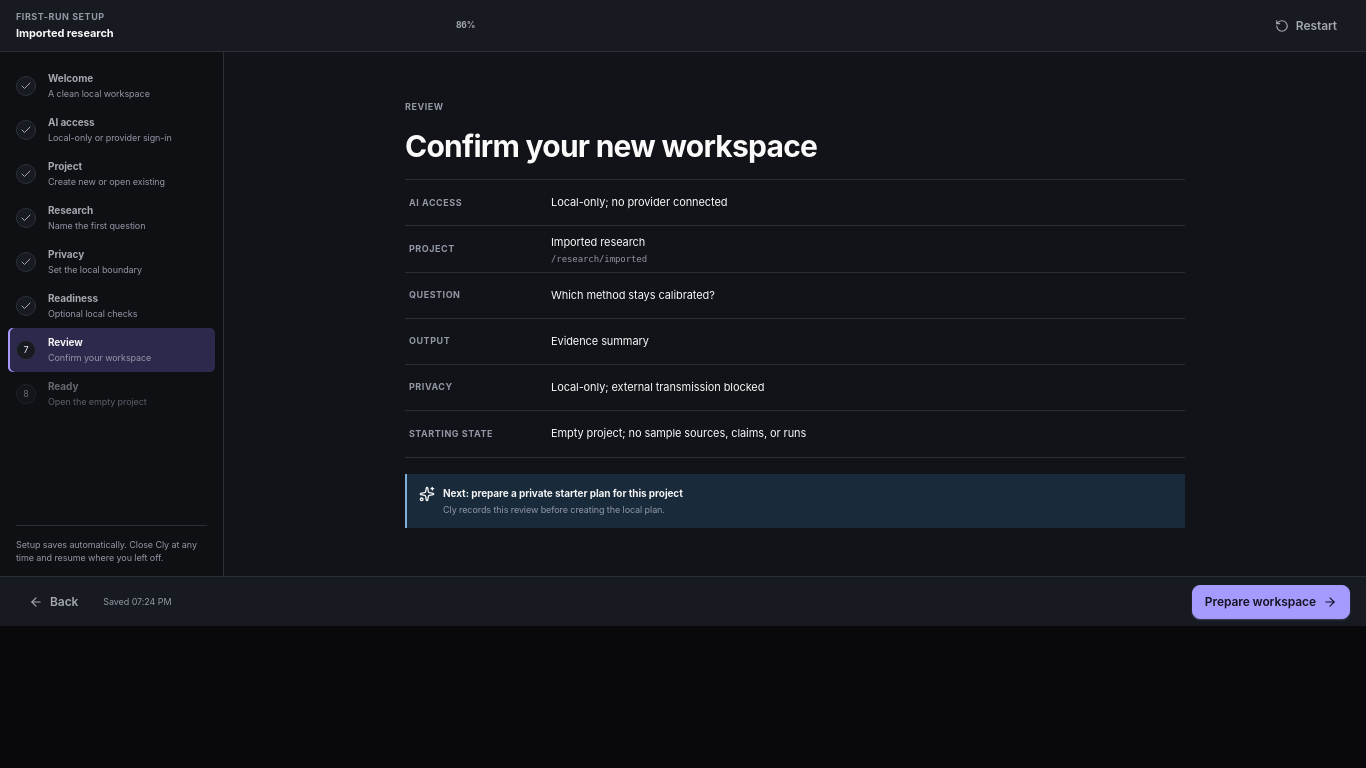
first-run onboarding › requires review before it displays generated starter work
Expected: the text "Objective" is not shown
Click the button "Prepare workspace".
click(1271, 602)  # box [1192,585,1350,619]
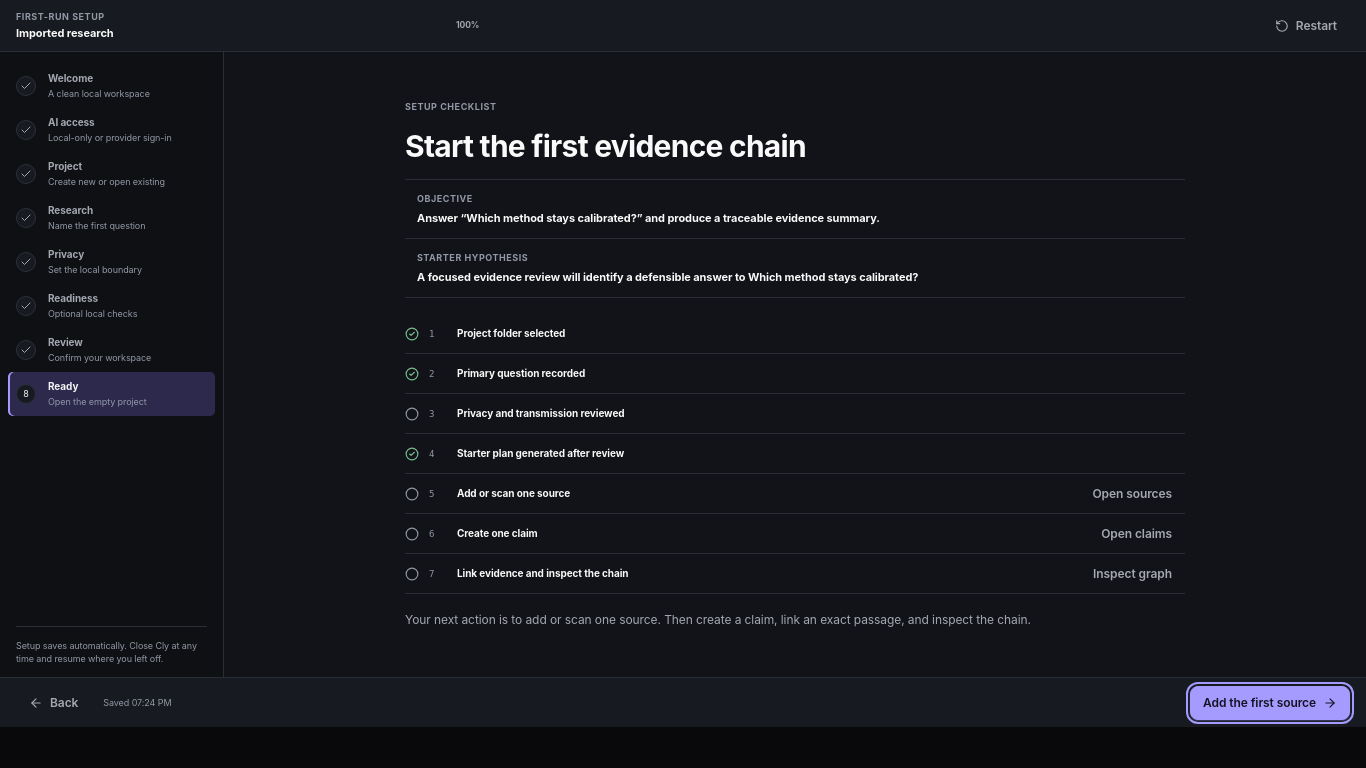
Now the text "Objective" is shown, box [417,193,473,204]
Now the text "Which method stays calibrated" is shown 2 times, box [417,211,880,225]; [417,270,918,284]
